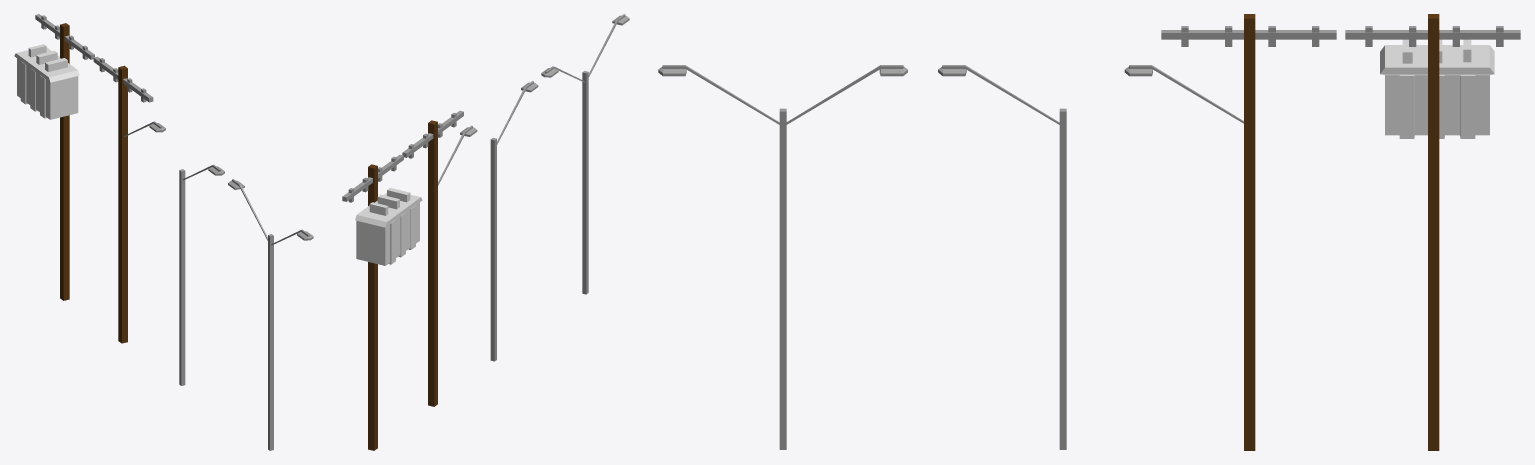
Rendered from postes.fbx.
The picture shows the model from 3 angles, left to right: view 1: azimuth 30°, elevation 25°; view 2: azimuth 150°, elevation 25°; view 3: azimuth 270°, elevation 25°; orthographic projection. The views are drawn at different scales.
Parts seen in each view (by area): view 1: gerador, poste 1, poste 4, poste 3, poste 2; view 2: gerador, poste 1, poste 4, poste 3, poste 2; view 3: gerador, poste 1, poste 4, poste 3, poste 2.
Part boxes in pixels (x1,y1,x2,y2): gerador: (14,44,79,119); poste 1: (93,56,165,343); poste 4: (35,14,94,300); poste 3: (228,179,313,450); poste 2: (179,164,224,385); gerador: (355,187,422,265); poste 1: (402,110,477,406); poste 4: (342,154,403,450); poste 3: (541,14,629,294); poste 2: (490,81,538,361); gerador: (1380,39,1494,138); poste 1: (1124,14,1336,450); poste 4: (1345,14,1520,450); poste 3: (658,65,907,449); poste 2: (938,65,1066,449).
Bounding box in the file's own units: 377 × 2727 × 4932.
